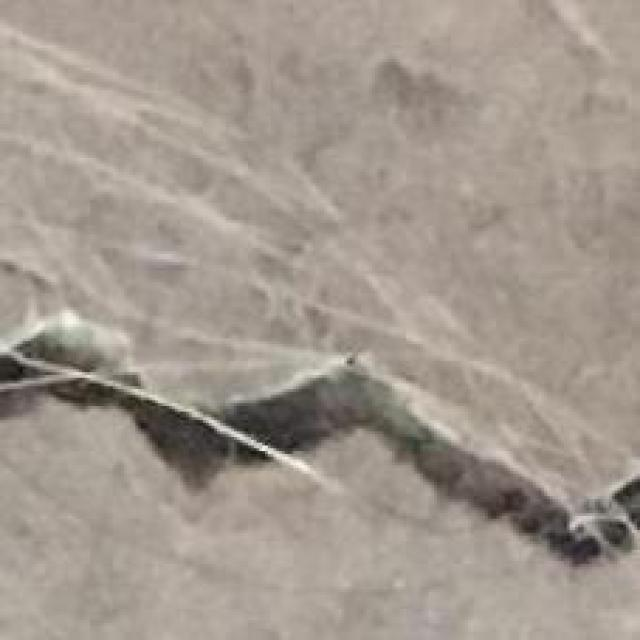Crack: (3, 308, 640, 570)
